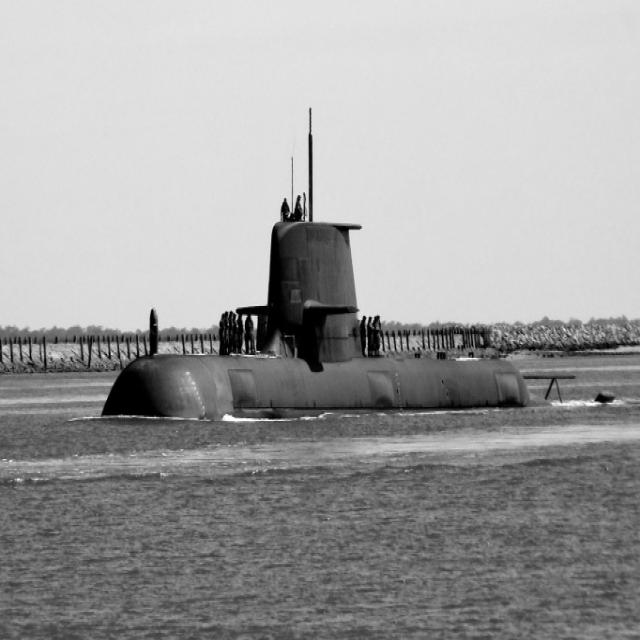submarine: (92, 102, 612, 421)
